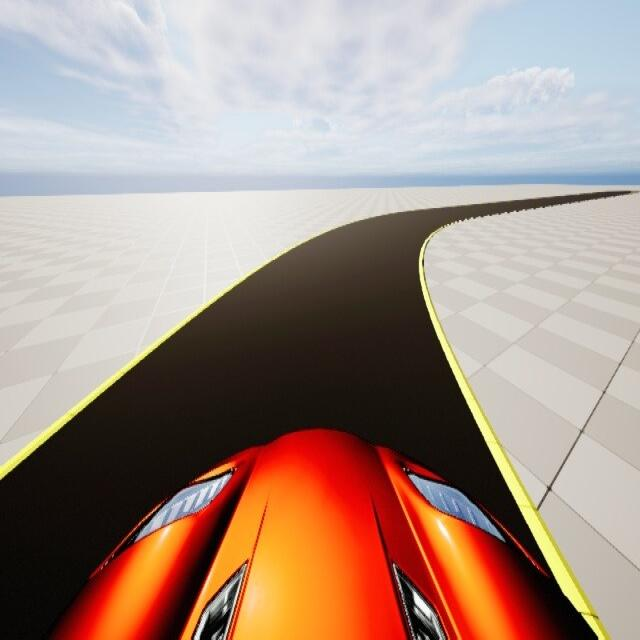lane: (0, 209, 546, 639)
